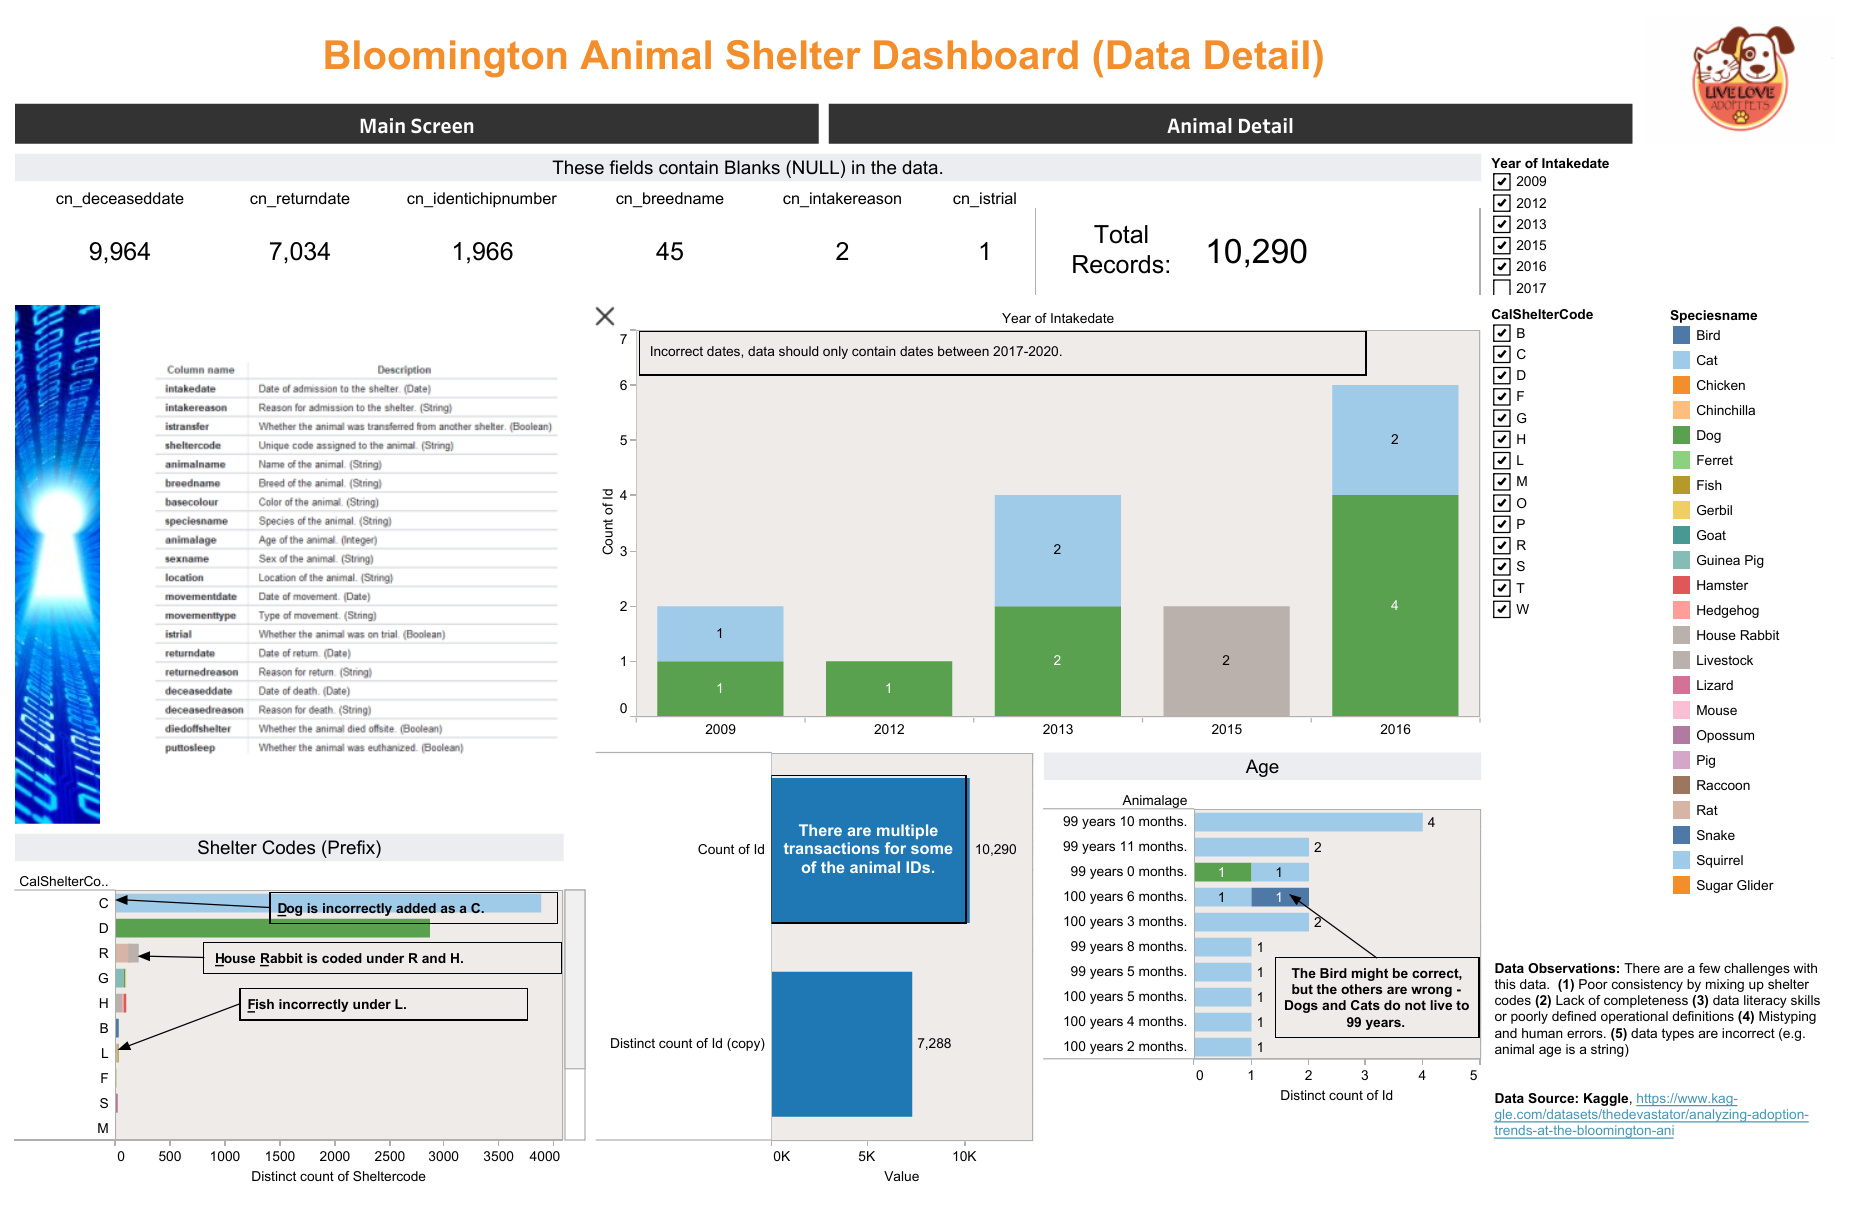

What the dashboard file says about the page in this screenshot:
{"tool":"tableau","page":{"name":"DashboardData","canvas":[1000,1000],"units":"permille","ordinal":0},"visuals":[{"type":"text","box":[4.9,9.4,879.4,73.9]},{"type":"image","param":"Image/cropped-LLAPETS-LOGO-2-1.png","box":[884.3,9.4,110.8,115.1]},{"type":"dashboard-object","box":[4.9,83.3,439.7,41.1]},{"type":"dashboard-object","box":[444.6,83.3,439.7,41.1]},{"type":"worksheet","title":"IsNull","mark":"Automatic","rows":["Calculation_1092685897375846448","Calculation_1092685897375531054","Calculation_1092685897373810724","Calculation_1092685897374171174","Calculation_1092685897357266977","Calculation_1092685897357107232"],"box":[4.9,124.5,797.6,124.6]},{"type":"filter","title":"IntakeDate (omit)","param":"[federated.0cm41il1nn5mlk1ei0d441y2iy9r].[yr:intakedate:ok]","box":[802.6,124.5,192.5,124.6]},{"type":"image","param":"Image/Screenshot_Data.jpg","box":[4.9,249.1,51,438.2]},{"type":"image","param":"Image/datadesc.png","box":[56,249.1,263.2,438.2]},{"type":"worksheet","title":"IntakeDate (omit)","mark":"Bar","rows":["id"],"cols":["intakedate"],"box":[319.2,249.1,483.3,370.7]},{"type":"dashboard-object","box":[319.2,249.1,14.8,28.2]},{"type":"filter","title":"Codes","param":"[federated.0cm41il1nn5mlk1ei0d441y2iy9r].[none:Calculation_1092685897154179080:n","box":[802.5,249.1,96.2,500.6]},{"type":"legend","title":"Codes","param":"[federated.0cm41il1nn5mlk1ei0d441y2iy9r].[none:speciesname:nk]","box":[898.7,249.1,96.4,500.6]},{"type":"worksheet","title":"cnt vs cntd","mark":"Automatic","box":[319.2,619.8,241.7,370.8]},{"type":"worksheet","title":"Age","mark":"Automatic","rows":["animalage"],"cols":["id"],"box":[560.8,619.8,241.7,370.8]},{"type":"worksheet","title":"Codes","mark":"Automatic","rows":["Calculation_1092685897154179080"],"cols":["sheltercode"],"box":[4.9,687.4,314.2,303.2]},{"type":"text","box":[802.5,749.7,192.6,240.9]}]}

Visuals, with their boxes on the dashboard's canvas, which has no fixed pixel size, in thousandths of its width and height (x1, y1, x2, y2). These are canvas units, not pixel positions in the 1853x1205 screenshot, which may show the page scaled, cropped or inside an application window:
text: (5, 9, 884, 83)
image: (884, 9, 995, 124)
dashboard-object: (5, 83, 445, 124)
dashboard-object: (445, 83, 884, 124)
"IsNull" worksheet: (5, 124, 802, 249)
"IntakeDate (omit)" filter: (803, 124, 995, 249)
image: (5, 249, 56, 687)
image: (56, 249, 319, 687)
"IntakeDate (omit)" worksheet (Bar marks): (319, 249, 802, 620)
dashboard-object: (319, 249, 334, 277)
"Codes" filter: (802, 249, 899, 750)
"Codes" legend: (899, 249, 995, 750)
"cnt vs cntd" worksheet: (319, 620, 561, 991)
"Age" worksheet: (561, 620, 802, 991)
"Codes" worksheet: (5, 687, 319, 991)
text: (802, 750, 995, 991)
